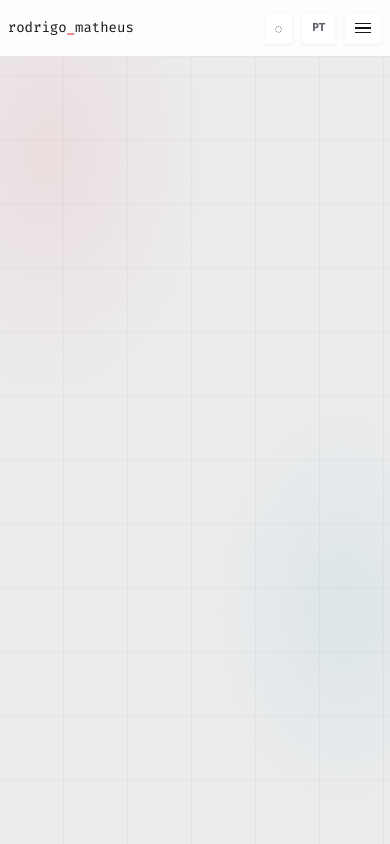
it: menu mobile — o botão de fechar não pode sumir › o menu também oferece um fechar próprio, caso o cabeçalho saia de vista
The image size is (390, 844).
Click the button named "Open menu".
click(363, 28)  # box x1=344 y1=12 x2=382 y2=44
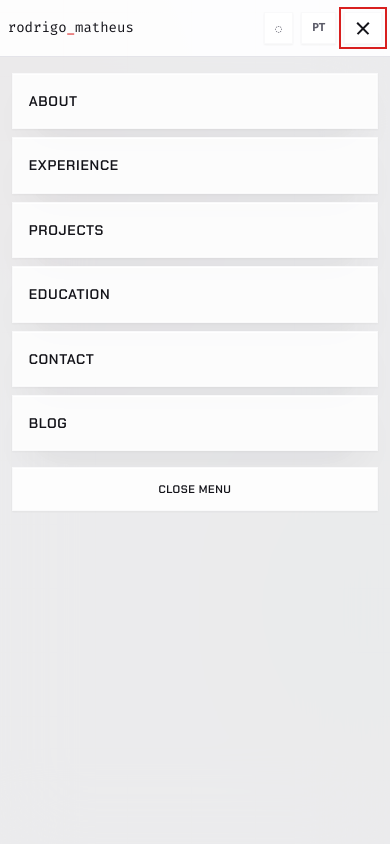
Click the button "Close menu".
click(195, 489)  # box x1=12 y1=467 x2=378 y2=511
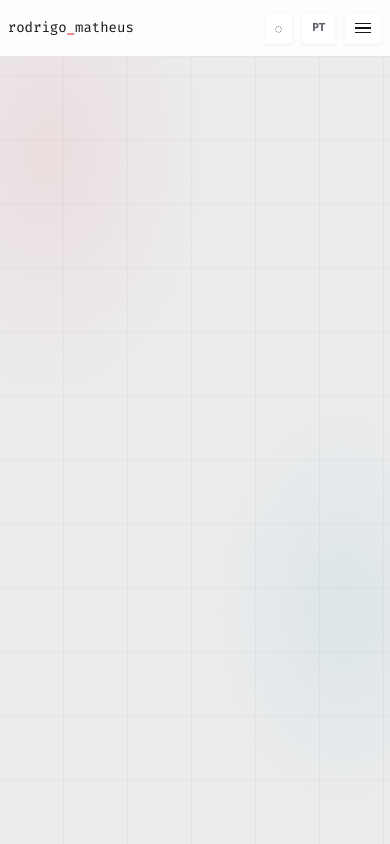
Result: the button "menu" is gone
